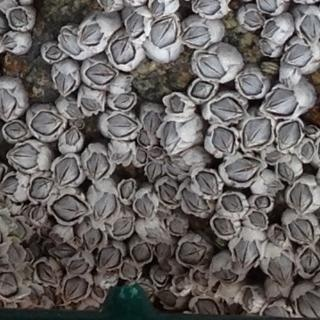Barnacle: (60, 24, 102, 60), (50, 193, 89, 221), (265, 88, 298, 116), (150, 17, 179, 48), (226, 158, 260, 184), (243, 119, 271, 150), (211, 96, 244, 122), (268, 253, 294, 285), (234, 235, 259, 268), (8, 144, 40, 169), (30, 112, 62, 136), (54, 157, 80, 186), (198, 52, 225, 79), (112, 37, 137, 65), (289, 183, 313, 212), (182, 23, 210, 47), (108, 113, 137, 136), (182, 187, 208, 212), (300, 13, 320, 45), (284, 45, 313, 67), (289, 219, 314, 244), (212, 127, 235, 154), (179, 242, 207, 264), (88, 152, 110, 180), (86, 63, 116, 83), (64, 277, 88, 301), (36, 262, 59, 287), (98, 245, 121, 270), (277, 123, 300, 148), (299, 292, 320, 319), (94, 194, 115, 221), (0, 89, 18, 120), (196, 171, 217, 197), (44, 242, 75, 259), (28, 177, 53, 198), (237, 74, 262, 95), (162, 123, 180, 151), (196, 298, 221, 318), (188, 80, 213, 99), (0, 271, 18, 297), (159, 184, 180, 206), (56, 71, 76, 94), (127, 13, 146, 37), (113, 216, 134, 237), (301, 248, 319, 272), (79, 96, 103, 114), (113, 94, 139, 110), (143, 111, 160, 135), (83, 228, 102, 249), (213, 218, 234, 237), (220, 195, 243, 212), (136, 194, 153, 217), (243, 9, 263, 28), (8, 8, 28, 27), (131, 243, 150, 262), (145, 161, 163, 181), (193, 0, 220, 13), (155, 241, 173, 260), (241, 289, 256, 311), (121, 264, 137, 283), (3, 176, 19, 195), (65, 104, 84, 120), (194, 269, 209, 289), (69, 259, 89, 274), (3, 124, 26, 137), (159, 290, 177, 306), (249, 212, 267, 228), (64, 128, 80, 146), (169, 95, 185, 113), (217, 270, 237, 284), (120, 179, 134, 199), (278, 163, 294, 180), (45, 45, 62, 60), (12, 221, 26, 239), (259, 0, 278, 13), (301, 142, 314, 160), (168, 161, 183, 176), (263, 21, 278, 36), (265, 150, 283, 162), (169, 220, 184, 234), (30, 208, 45, 222), (154, 269, 167, 285), (138, 131, 150, 147), (140, 283, 153, 297), (152, 0, 165, 14), (9, 245, 21, 260), (255, 196, 270, 207), (150, 146, 163, 158), (275, 227, 286, 241), (261, 41, 272, 55), (39, 226, 51, 238), (176, 276, 187, 289), (137, 149, 147, 163), (4, 39, 16, 49), (305, 125, 316, 135), (0, 212, 9, 224), (53, 234, 62, 242)
